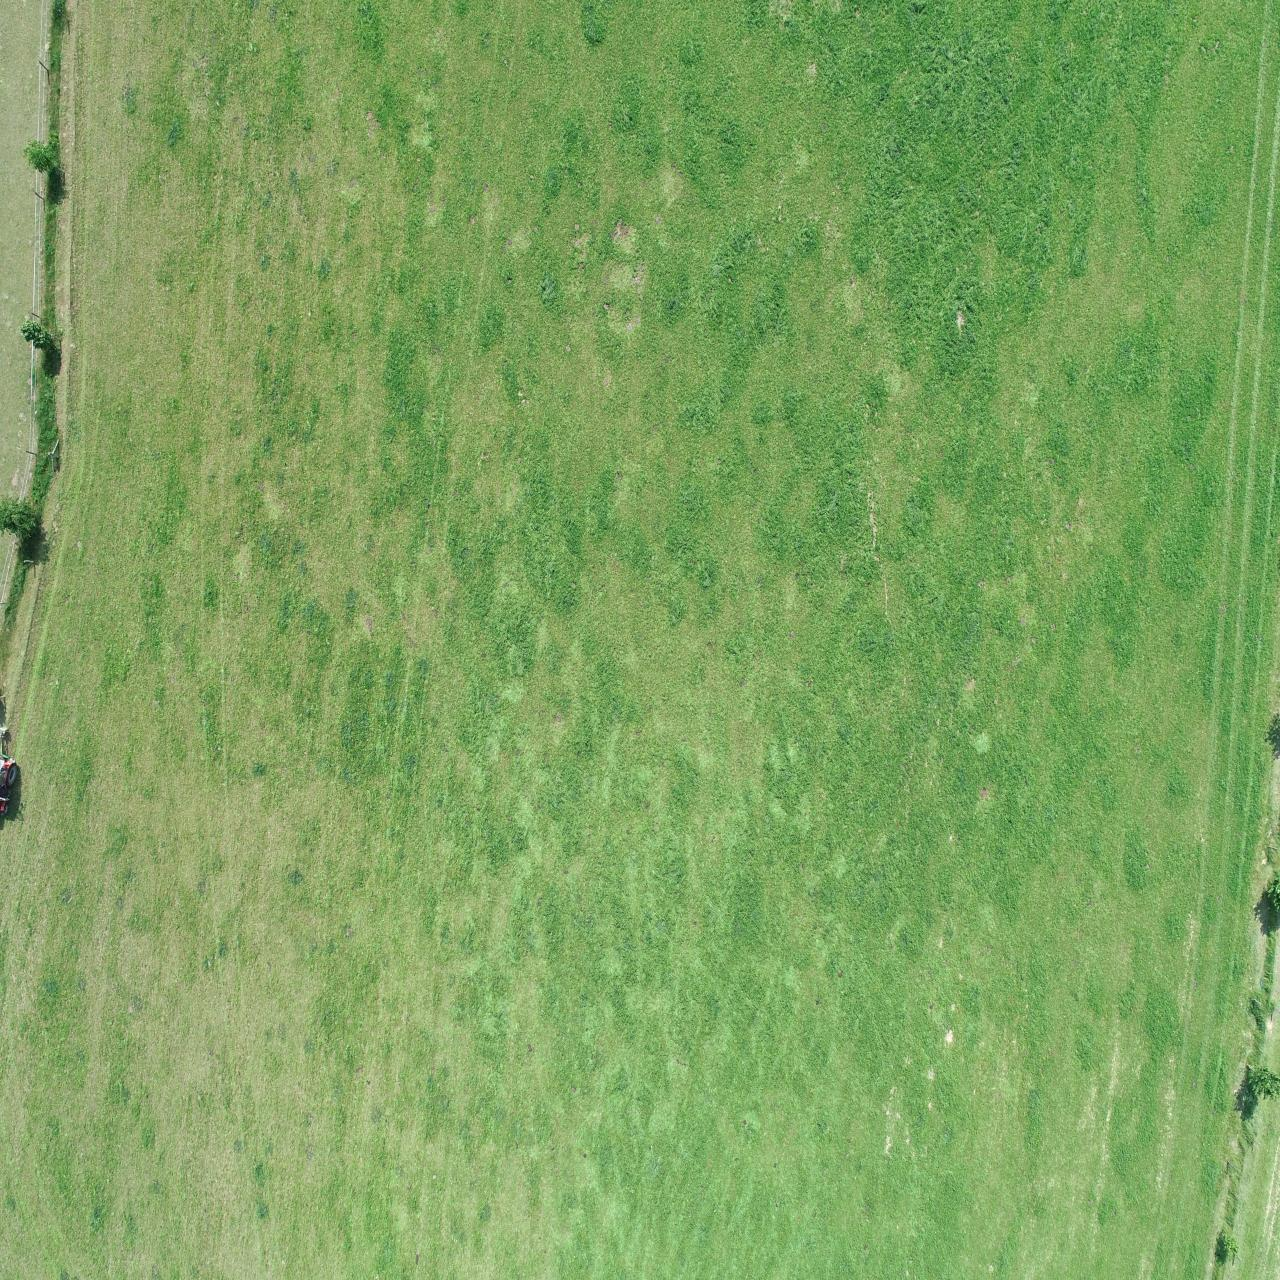cow: (264, 354, 295, 427), (192, 592, 217, 672), (203, 396, 224, 469)
